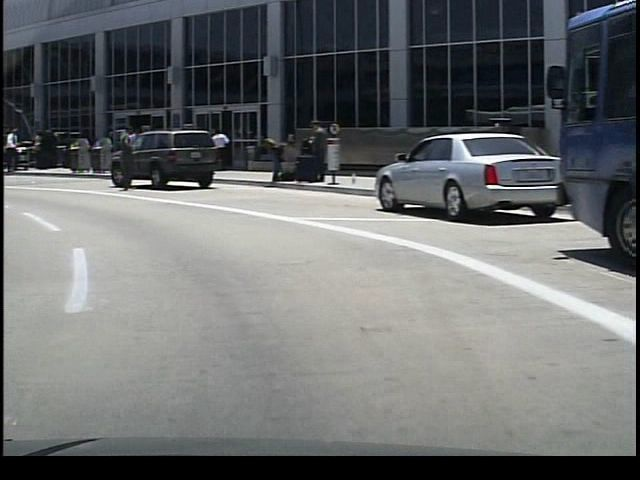person: (108, 116, 136, 199), (261, 130, 290, 184), (301, 119, 322, 186), (205, 126, 227, 173)
